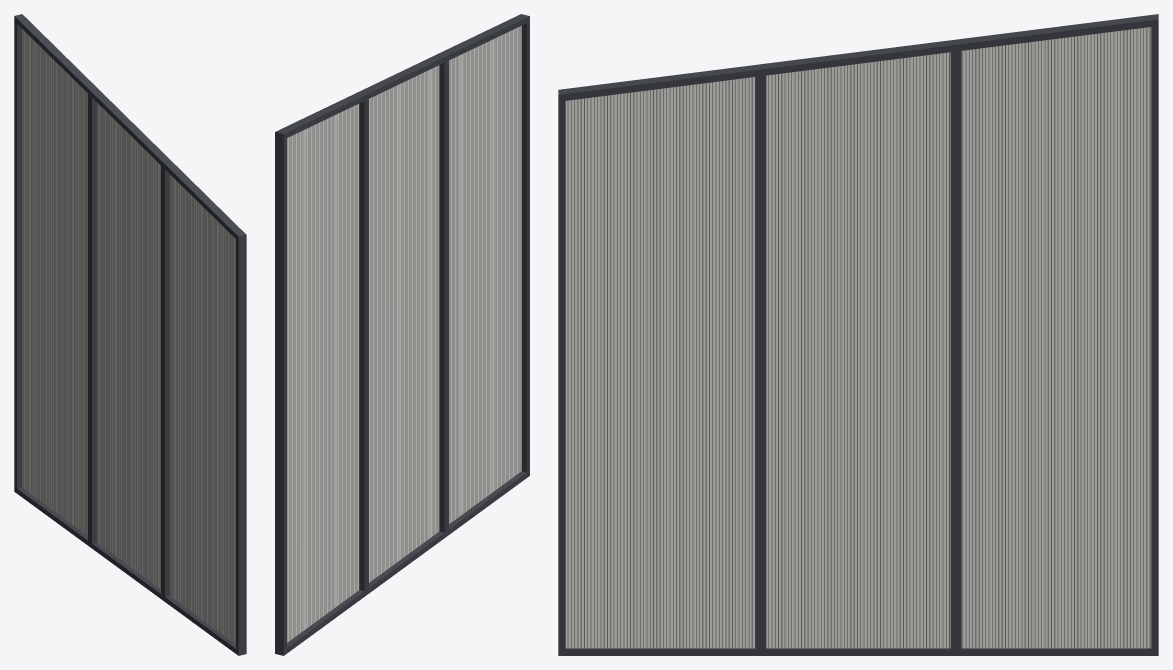
The model's file is nebbiolo_sidewall_right_poly_opaque_400_250.glb.
The picture shows the model from 3 angles, left to right: view 1: azimuth 30°, elevation 25°; view 2: azimuth 150°, elevation 25°; view 3: azimuth 270°, elevation 25°; orthographic projection. The views are drawn at different scales.
Visible parts, largest first — view 1: sidewall_right_poly_opaque_400_250; view 2: sidewall_right_poly_opaque_400_250; view 3: sidewall_right_poly_opaque_400_250.
Boxes of the visible parts, x1,y1,x2,y2 form: sidewall_right_poly_opaque_400_250: (14,14,246,655); sidewall_right_poly_opaque_400_250: (275,14,529,655); sidewall_right_poly_opaque_400_250: (558,14,1158,655).
Bounding box in the file's own units: 0.05 × 2.85 × 2.44.
2 materials, 2 textured.
